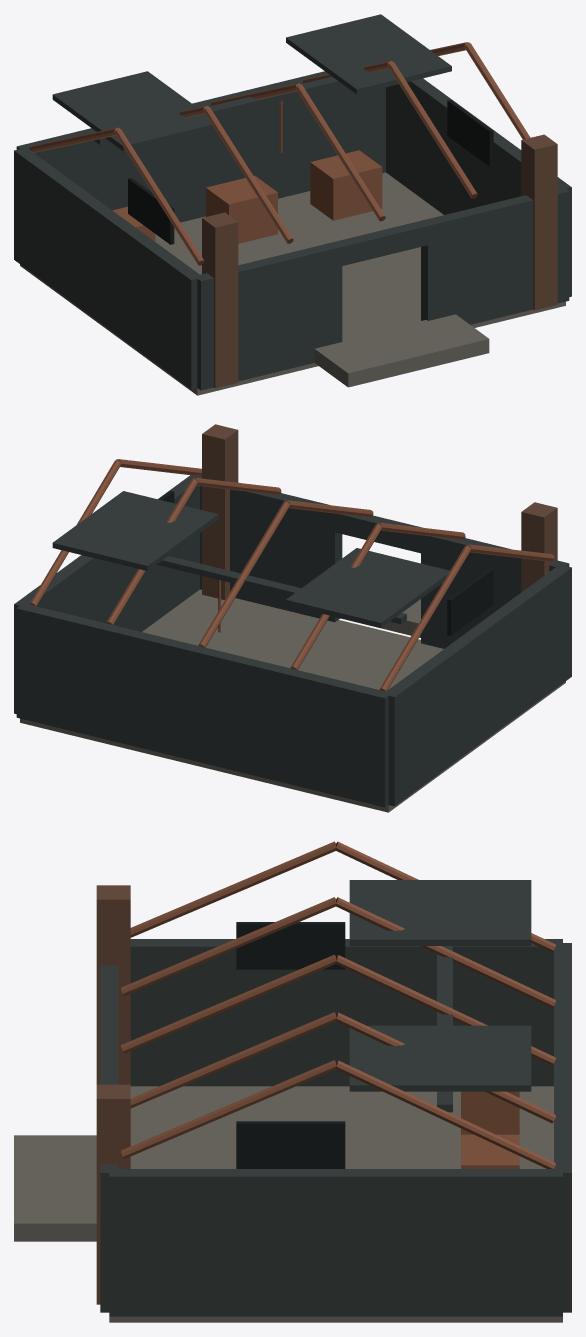
The model's file is ruin_warehouse.glb.
3 renders of one model, top to bottom at view 1: azimuth 30°, elevation 25°; view 2: azimuth 150°, elevation 25°; view 3: azimuth 270°, elevation 25°, orthographic. The views are drawn at different scales.
Parts seen in each view (by area): view 1: WALL_side.002, WALL_back.001, FLOOR_ground.001, WALL_front_pier.003, WALL_front_pier.002, WALL_side.003, loading_ramp, roof_sheet.001, roof_sheet, WALL_pillar.001, WALL_pillar, steel_crate.002 (+12 smaller); view 2: WALL_back.001, WALL_side.002, FLOOR_ground.001, WALL_front_pier.003, WALL_side.003, roof_sheet.001, roof_sheet, WALL_front_pier.002, WALL_pillar.001, WALL_pillar, warehouse_window, gantry (+12 smaller); view 3: WALL_side.003, WALL_side.002, FLOOR_ground.001, roof_sheet, roof_sheet.001, loading_ramp, WALL_back.001, warehouse_window.001, WALL_pillar, warehouse_window, WALL_pillar.001, roof_truss.008 (+15 smaller).
Part boxes in pixels (<box>): WALL_side.002: <box>14,147,202,389</box>; WALL_back.001: <box>16,71,385,222</box>; FLOOR_ground.001: <box>20,172,565,395</box>; WALL_front_pier.003: <box>421,189,569,324</box>; WALL_front_pier.002: <box>194,242,342,390</box>; WALL_side.003: <box>386,78,571,296</box>; loading_ramp: <box>314,314,489,387</box>; roof_sheet.001: <box>286,14,451,94</box>; roof_sheet: <box>52,71,214,151</box>; WALL_pillar.001: <box>521,134,557,310</box>; WALL_pillar: <box>202,212,238,388</box>; steel_crate.002: <box>310,150,382,220</box>; WALL_back.001: <box>16,603,391,807</box>; WALL_side.002: <box>383,564,571,806</box>; FLOOR_ground.001: <box>20,589,565,812</box>; WALL_front_pier.003: <box>196,476,342,622</box>; WALL_side.003: <box>14,475,201,713</box>; roof_sheet.001: <box>52,491,218,570</box>; roof_sheet: <box>286,548,449,627</box>; WALL_front_pier.002: <box>421,535,569,648</box>; WALL_pillar.001: <box>202,424,238,599</box>; WALL_pillar: <box>521,502,557,592</box>; warehouse_window: <box>447,568,493,635</box>; gantry: <box>157,556,406,624</box>; WALL_side.003: <box>109,1169,562,1316</box>; WALL_side.002: <box>130,939,562,1086</box>; FLOOR_ground.001: <box>109,1086,562,1322</box>; roof_sheet: <box>349,880,531,945</box>; roof_sheet.001: <box>349,1025,531,1091</box>; loading_ramp: <box>14,1135,96,1241</box>; WALL_back.001: <box>554,943,571,1312</box>; warehouse_window.001: <box>236,1121,345,1168</box>; WALL_pillar: <box>96,885,130,1084</box>; warehouse_window: <box>236,922,345,969</box>; WALL_pillar.001: <box>96,1084,130,1304</box>; roof_truss.008: <box>336,1060,555,1169</box>.
Size of the model in its own units: 12.4 by 6.24 by 12.3.
